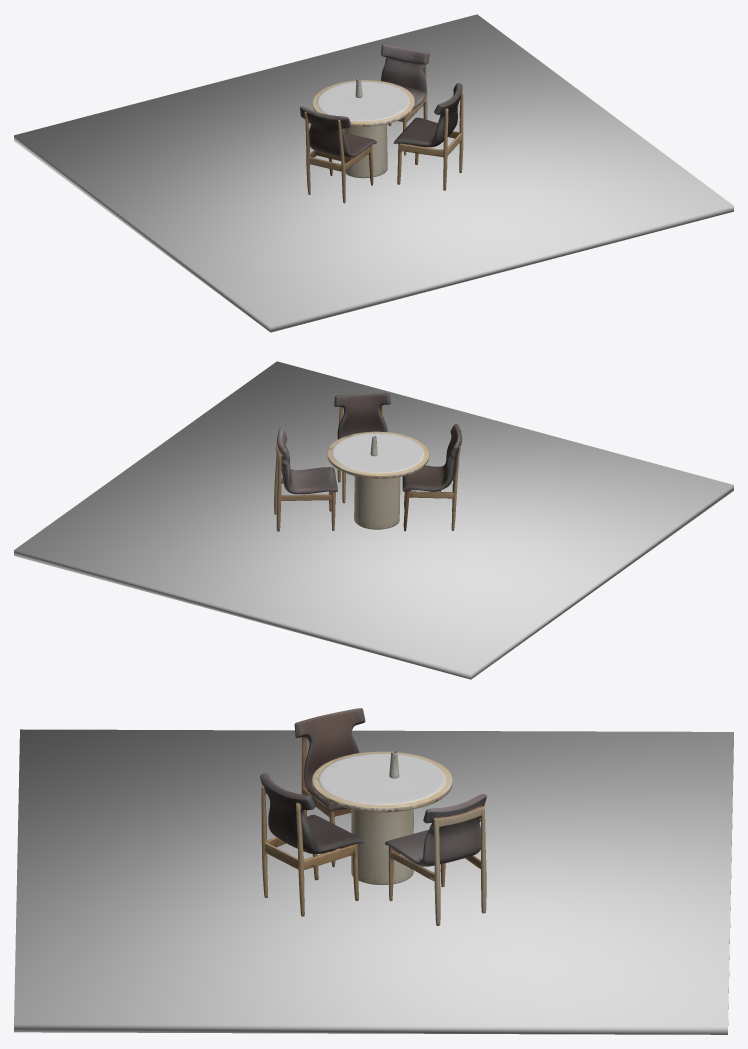
File: rest3d.glb
The picture shows the model from 3 angles, top to bottom: view 1: azimuth 30°, elevation 25°; view 2: azimuth 150°, elevation 25°; view 3: azimuth 270°, elevation 25°; orthographic projection. The views are drawn at different scales.
Parts seen in each view (by area): view 1: ground, World; view 2: ground, World; view 3: ground, World.
Part boxes in pixels (left/top/right/bottom): ground: left=14, top=14, right=733, bottom=332; World: left=300, top=43, right=463, bottom=203; ground: left=14, top=361, right=733, bottom=679; World: left=274, top=393, right=462, bottom=531; ground: left=14, top=729, right=733, bottom=1034; World: left=260, top=708, right=486, bottom=925.
Bounding box in the file's own units: 4.11 × 0.8496 × 4.02.
